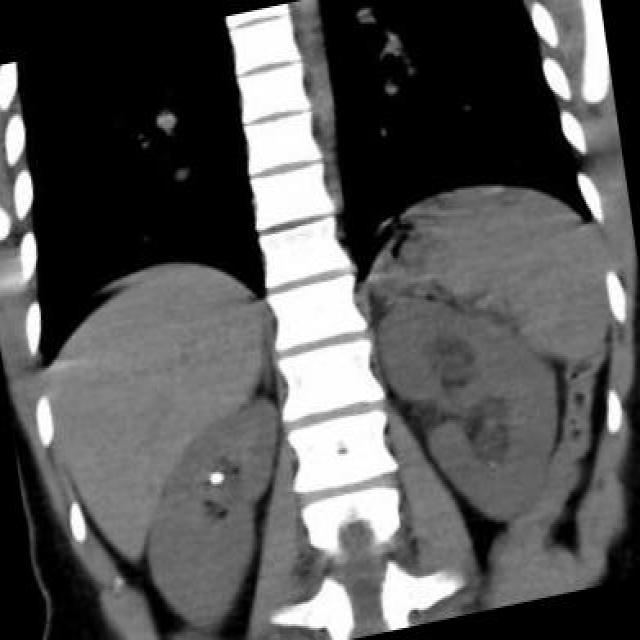Tas_Var: (206, 466, 226, 488)
